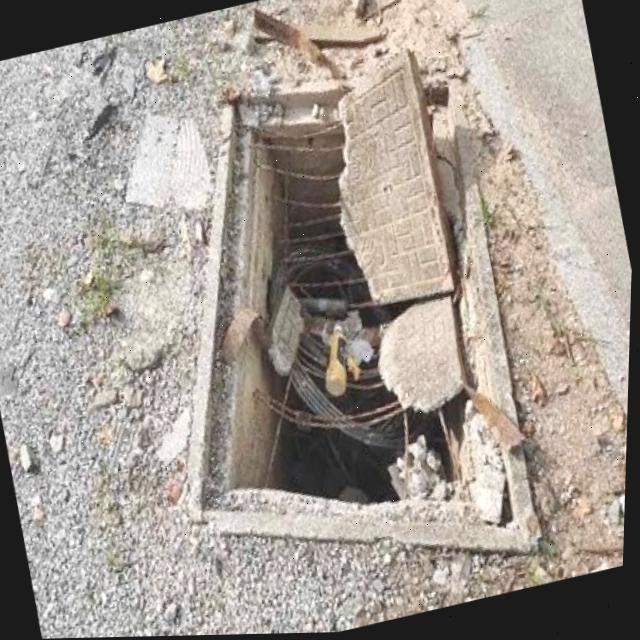manhole: (107, 29, 572, 624)
